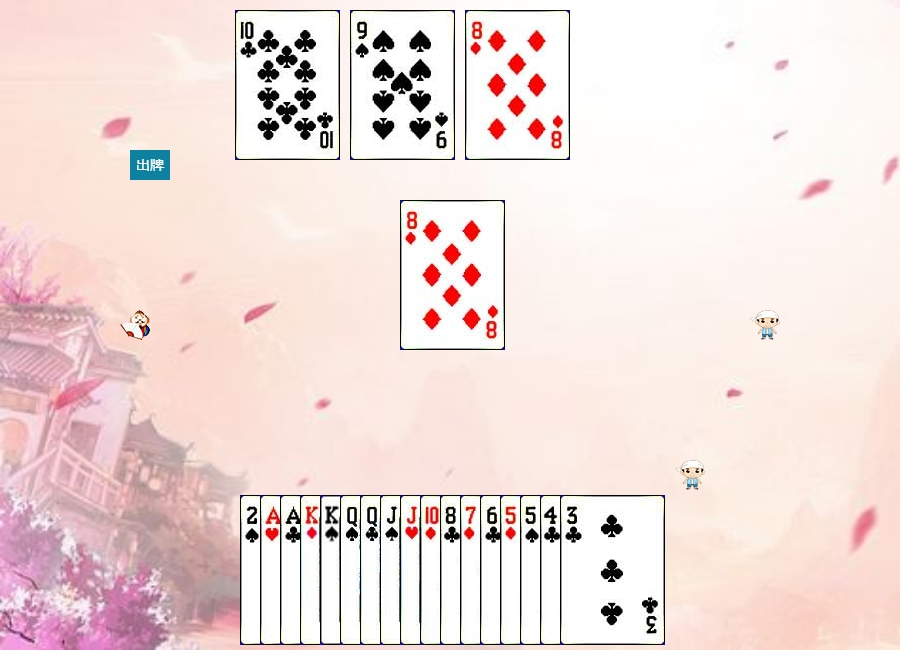10~1: (420, 495, 525, 645)
10~2: (235, 10, 340, 160)
11~3: (400, 495, 505, 645)
11~4: (380, 495, 485, 645)
12~2: (360, 495, 465, 645)
12~4: (340, 495, 445, 645)
13~1: (300, 495, 405, 645)
13~4: (320, 495, 425, 645)
14~2: (280, 495, 385, 645)
14~3: (260, 495, 365, 645)
15~4: (240, 495, 345, 645)
3~2: (560, 495, 665, 645)
4~2: (540, 495, 645, 645)
5~1: (500, 495, 605, 645)
5~4: (520, 495, 625, 645)
6~2: (480, 495, 585, 645)
7~1: (460, 495, 565, 645)
8~1: (465, 10, 570, 160), (400, 200, 505, 350)
8~2: (440, 495, 545, 645)
9~4: (350, 10, 455, 160)
